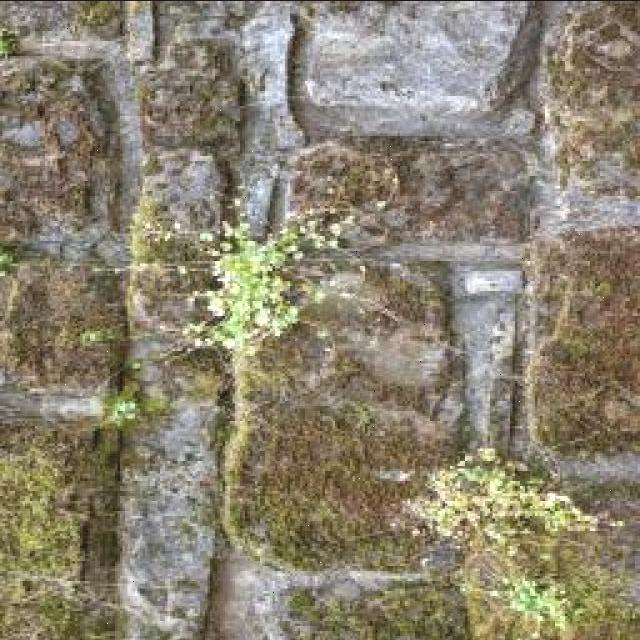crack: (1, 1, 637, 638), (201, 11, 311, 633), (85, 10, 174, 631), (291, 0, 536, 145), (208, 76, 248, 248), (283, 4, 322, 147)
vegetation: (83, 206, 345, 434), (2, 2, 140, 419), (4, 243, 137, 639), (527, 0, 640, 253), (116, 414, 219, 639), (4, 54, 107, 130), (0, 25, 20, 59)
